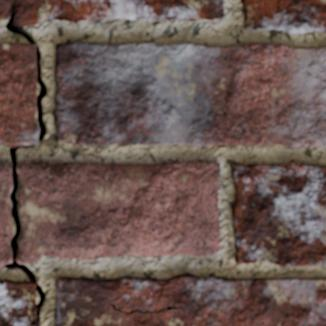brick: (54, 41, 325, 147), (55, 274, 325, 325), (232, 163, 325, 266), (0, 44, 38, 145), (241, 0, 325, 32), (0, 280, 38, 325)
broken_brick: (17, 161, 220, 264), (0, 0, 224, 26), (0, 162, 13, 267)
crack: (0, 2, 48, 323), (54, 105, 70, 123), (105, 0, 111, 9)
